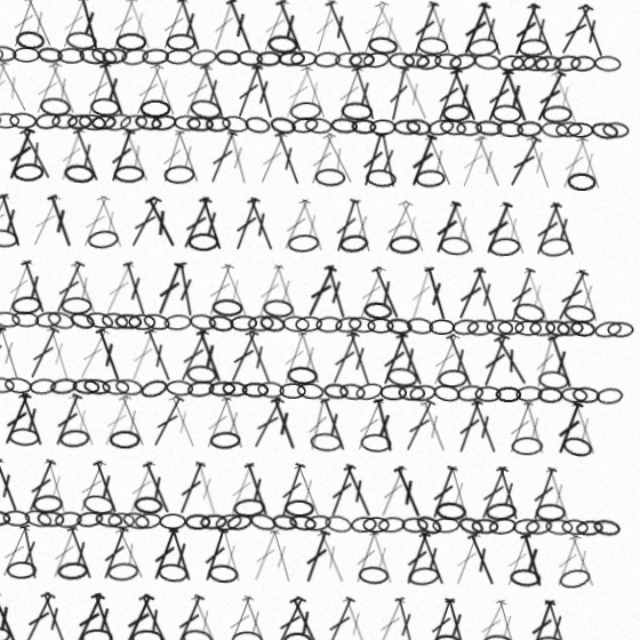chain: (546, 410, 576, 432), (502, 294, 532, 315), (128, 468, 158, 489), (546, 526, 575, 547), (216, 121, 246, 141), (546, 295, 576, 315), (458, 63, 487, 83), (18, 295, 47, 315), (524, 237, 554, 256), (392, 353, 421, 372), (414, 527, 443, 546), (419, 481, 445, 502), (176, 366, 203, 386), (129, 237, 157, 256), (217, 585, 245, 604), (304, 122, 333, 140), (304, 238, 333, 256), (480, 238, 509, 256), (260, 470, 289, 488), (128, 76, 154, 96), (94, 308, 120, 328), (113, 308, 139, 328), (244, 482, 270, 502), (456, 482, 482, 502), (349, 237, 376, 256), (107, 64, 135, 82), (283, 64, 311, 82), (371, 64, 399, 82), (85, 122, 113, 140), (107, 180, 135, 198), (371, 180, 399, 198), (41, 238, 69, 256), (437, 238, 465, 256), (63, 296, 91, 314), (217, 354, 245, 372), (437, 354, 465, 372), (525, 354, 553, 372), (107, 412, 135, 430), (437, 470, 465, 488), (481, 470, 509, 488), (107, 528, 135, 546), (151, 528, 179, 546), (195, 528, 223, 546), (239, 528, 267, 546), (442, 76, 468, 95), (141, 134, 167, 153), (424, 134, 450, 153), (128, 308, 154, 327), (365, 366, 391, 385), (77, 482, 103, 501), (274, 482, 300, 501), (63, 64, 90, 82), (371, 296, 398, 314), (437, 586, 464, 604), (129, 122, 157, 139), (349, 122, 377, 139), (283, 296, 311, 313), (305, 354, 333, 371), (19, 412, 47, 429), (327, 412, 355, 429), (503, 528, 531, 545), (118, 77, 144, 95), (155, 77, 181, 95), (215, 77, 241, 95), (155, 135, 181, 153), (567, 135, 593, 153), (178, 309, 204, 327), (573, 309, 599, 327), (412, 367, 438, 385), (433, 367, 459, 385), (163, 483, 189, 501), (340, 483, 366, 501), (415, 64, 442, 81), (503, 64, 530, 81), (437, 122, 464, 139), (481, 122, 508, 139), (525, 122, 552, 139), (19, 180, 46, 197), (63, 180, 90, 197), (195, 180, 222, 197), (415, 180, 442, 197), (393, 238, 420, 255), (239, 296, 266, 313), (63, 412, 90, 429), (239, 412, 266, 429), (371, 412, 398, 429), (85, 470, 112, 487), (173, 470, 200, 487), (371, 528, 398, 545), (41, 586, 68, 603), (481, 586, 508, 603), (413, 77, 438, 95), (264, 135, 289, 153), (286, 135, 311, 153), (235, 309, 260, 327), (254, 483, 279, 501), (503, 413, 531, 429), (129, 587, 157, 603), (173, 587, 201, 603), (244, 135, 270, 152), (305, 135, 331, 152), (346, 309, 372, 326), (322, 483, 348, 500), (151, 65, 178, 81), (195, 65, 222, 81), (173, 123, 200, 139), (151, 181, 178, 197), (327, 181, 354, 197), (217, 239, 244, 255), (107, 297, 134, 313), (151, 413, 178, 429), (305, 471, 332, 487), (525, 471, 552, 487), (63, 529, 90, 545), (261, 587, 288, 603), (525, 587, 552, 603), (367, 77, 392, 94), (464, 77, 489, 94), (496, 77, 521, 94), (534, 77, 559, 94), (168, 135, 193, 152), (182, 135, 207, 152), (405, 135, 430, 152), (435, 135, 460, 152), (142, 309, 167, 326), (219, 309, 244, 326), (280, 309, 305, 326), (358, 309, 383, 326), (409, 309, 434, 326), (58, 367, 83, 384), (98, 367, 123, 384), (127, 367, 152, 384), (155, 367, 180, 384), (218, 367, 243, 384), (454, 367, 479, 384), (123, 483, 148, 500), (309, 483, 334, 500), (484, 483, 509, 500), (516, 483, 541, 500), (575, 483, 600, 500), (548, 181, 574, 197), (306, 587, 332, 603), (81, 135, 105, 152), (84, 309, 108, 326), (530, 309, 554, 326), (552, 309, 576, 326), (29, 483, 53, 500), (294, 483, 318, 500), (324, 78, 349, 94), (485, 78, 510, 94), (517, 78, 542, 94), (28, 136, 53, 152), (119, 136, 144, 152), (317, 136, 342, 152), (485, 136, 510, 152), (524, 136, 549, 152), (47, 310, 72, 326), (197, 310, 222, 326), (449, 310, 474, 326), (462, 310, 487, 326), (80, 368, 105, 384), (314, 368, 339, 384), (545, 368, 570, 384), (576, 368, 601, 384), (104, 484, 129, 500), (174, 484, 199, 500), (231, 484, 256, 500), (387, 484, 412, 500), (560, 484, 585, 500), (82, 78, 106, 94), (109, 136, 133, 152), (130, 136, 154, 152), (391, 310, 415, 326), (337, 368, 361, 384), (351, 368, 375, 384), (363, 484, 387, 500), (194, 78, 219, 93), (466, 136, 491, 151), (555, 368, 580, 383), (505, 484, 530, 499), (29, 78, 53, 93), (41, 78, 65, 93), (174, 78, 198, 93), (238, 78, 262, 93), (257, 78, 281, 93), (293, 78, 317, 93), (304, 78, 328, 93), (402, 78, 426, 93), (430, 78, 454, 93), (570, 78, 594, 93), (59, 136, 83, 151), (203, 136, 227, 151), (230, 136, 254, 151), (340, 136, 364, 151), (537, 136, 561, 151), (578, 136, 602, 151), (64, 310, 88, 325), (255, 310, 279, 325), (270, 310, 294, 325), (301, 310, 325, 325), (312, 310, 336, 325), (330, 310, 354, 325), (479, 310, 503, 325), (489, 310, 513, 325), (541, 310, 565, 325), (44, 368, 68, 383), (118, 368, 142, 383), (144, 368, 168, 383), (200, 368, 224, 383), (237, 368, 261, 383), (280, 368, 304, 383), (506, 368, 530, 383), (59, 484, 83, 499), (89, 484, 113, 499), (140, 484, 164, 499), (435, 484, 459, 499), (534, 484, 558, 499), (548, 484, 572, 499), (139, 78, 162, 93), (355, 78, 378, 93), (390, 78, 413, 93), (549, 78, 572, 93), (96, 136, 119, 151), (503, 136, 526, 151), (517, 310, 540, 325), (29, 368, 52, 383), (249, 368, 272, 383), (61, 79, 85, 93), (100, 79, 124, 93), (343, 79, 367, 93), (507, 79, 531, 93), (44, 137, 68, 151), (214, 137, 238, 151), (374, 137, 398, 151), (395, 137, 419, 151), (547, 137, 571, 151), (29, 311, 53, 325), (154, 311, 178, 325), (166, 311, 190, 325), (375, 311, 399, 325), (504, 311, 528, 325), (585, 311, 609, 325), (266, 369, 290, 383), (299, 369, 323, 383), (387, 369, 411, 383), (403, 369, 427, 383), (470, 369, 494, 383), (42, 485, 66, 499), (151, 485, 175, 499), (196, 485, 220, 499), (374, 485, 398, 499), (408, 485, 432, 499), (469, 485, 493, 499), (274, 79, 297, 93), (358, 137, 381, 151), (450, 137, 473, 151), (429, 311, 452, 325), (488, 369, 511, 383), (525, 369, 548, 383), (218, 485, 241, 499)
double: (483, 322, 521, 371), (535, 32, 572, 81), (65, 148, 102, 197), (44, 90, 80, 139), (330, 148, 366, 197), (492, 148, 528, 197), (176, 206, 212, 255), (374, 32, 409, 82), (162, 206, 197, 256), (536, 264, 571, 314), (118, 322, 153, 372), (8, 380, 43, 430), (184, 380, 219, 430), (272, 380, 307, 430), (154, 496, 189, 546), (176, 554, 211, 604), (308, 554, 343, 604), (67, 32, 101, 82), (89, 90, 123, 140), (163, 90, 197, 140), (397, 90, 431, 140), (515, 90, 549, 140), (9, 148, 43, 198), (419, 148, 453, 198), (75, 206, 109, 256), (207, 206, 241, 256), (383, 206, 417, 256), (317, 264, 351, 314), (375, 264, 409, 314), (75, 322, 109, 372), (405, 380, 439, 430), (177, 438, 211, 488), (353, 438, 387, 488), (397, 438, 431, 488), (9, 496, 43, 546), (331, 496, 365, 546), (45, 554, 79, 604), (75, 554, 109, 604), (119, 554, 153, 604), (221, 554, 255, 604), (295, 554, 329, 604), (471, 554, 505, 604), (9, 32, 42, 82), (23, 32, 56, 82), (287, 32, 320, 82), (331, 32, 364, 82), (507, 32, 540, 82), (207, 90, 240, 140), (295, 90, 328, 140), (441, 90, 474, 140), (529, 90, 562, 140), (23, 148, 56, 198), (155, 148, 188, 198), (273, 148, 306, 198), (463, 148, 496, 198), (31, 206, 64, 256), (119, 206, 152, 256), (133, 206, 166, 256), (265, 206, 298, 256), (295, 206, 328, 256), (397, 206, 430, 256), (97, 264, 130, 314), (111, 264, 144, 314), (141, 264, 174, 314), (243, 264, 276, 314), (449, 264, 482, 314), (177, 322, 210, 372), (207, 322, 240, 372), (251, 322, 284, 372), (265, 322, 298, 372), (397, 322, 430, 372), (427, 322, 460, 372), (441, 322, 474, 372), (111, 380, 144, 430), (141, 380, 174, 430), (155, 380, 188, 430), (199, 380, 232, 430), (419, 380, 452, 430), (53, 496, 86, 546), (463, 496, 496, 546), (551, 496, 584, 546), (163, 554, 196, 604), (207, 554, 240, 604), (339, 554, 372, 604), (383, 554, 416, 604), (98, 32, 130, 82), (156, 32, 188, 82), (244, 32, 276, 82), (274, 32, 306, 82), (450, 32, 482, 82), (494, 32, 526, 82), (552, 32, 584, 82), (76, 90, 108, 140), (178, 90, 210, 140), (310, 90, 342, 140), (486, 90, 518, 140), (112, 148, 144, 198), (200, 148, 232, 198), (230, 148, 262, 198), (288, 148, 320, 198), (538, 148, 570, 198), (310, 206, 342, 256), (442, 206, 474, 256), (472, 206, 504, 256), (486, 206, 518, 256), (530, 206, 562, 256), (10, 264, 42, 314), (362, 264, 394, 314), (508, 264, 540, 314), (134, 322, 166, 372), (222, 322, 254, 372), (340, 322, 372, 372), (54, 380, 86, 430), (98, 380, 130, 430), (288, 380, 320, 430), (332, 380, 364, 430), (362, 380, 394, 430), (464, 380, 496, 430), (46, 438, 78, 488), (76, 438, 108, 488), (120, 438, 152, 488), (164, 438, 196, 488), (310, 438, 342, 488), (384, 438, 416, 488), (472, 438, 504, 488), (112, 496, 144, 546), (420, 496, 452, 546), (90, 554, 122, 604), (266, 554, 298, 604), (354, 554, 386, 604), (142, 32, 173, 82), (186, 32, 217, 82), (362, 32, 393, 82), (406, 32, 437, 82), (420, 32, 451, 82), (464, 32, 495, 82), (134, 90, 165, 140), (222, 90, 253, 140), (428, 90, 459, 140), (472, 90, 503, 140), (54, 148, 85, 198), (318, 148, 349, 198), (406, 148, 437, 198), (450, 148, 481, 198), (508, 148, 539, 198), (552, 148, 583, 198), (90, 206, 121, 256), (428, 206, 459, 256), (516, 206, 547, 256), (24, 264, 55, 314), (54, 264, 85, 314), (68, 264, 99, 314), (186, 264, 217, 314), (230, 264, 261, 314), (274, 264, 305, 314), (464, 264, 495, 314), (32, 322, 63, 372), (164, 322, 195, 372), (354, 322, 385, 372), (384, 322, 415, 372), (472, 322, 503, 372), (530, 322, 561, 372), (68, 380, 99, 430), (230, 380, 261, 430), (538, 380, 569, 430), (552, 380, 583, 430), (32, 438, 63, 488), (134, 438, 165, 488), (208, 438, 239, 488), (252, 438, 283, 488), (266, 438, 297, 488), (340, 438, 371, 488), (530, 438, 561, 488), (24, 496, 55, 546), (98, 496, 129, 546), (142, 496, 173, 546), (186, 496, 217, 546), (274, 496, 305, 546), (450, 496, 481, 546), (32, 554, 63, 604), (134, 554, 165, 604), (252, 554, 283, 604), (55, 32, 85, 82), (201, 32, 231, 82), (121, 90, 151, 140), (253, 90, 283, 140), (341, 90, 371, 140), (355, 90, 385, 140), (99, 148, 129, 198), (143, 148, 173, 198), (47, 206, 77, 256), (223, 206, 253, 256), (253, 206, 283, 256), (157, 264, 187, 314), (289, 264, 319, 314), (495, 264, 525, 314), (553, 264, 583, 314), (47, 322, 77, 372), (91, 322, 121, 372), (311, 322, 341, 372), (245, 380, 275, 430), (451, 380, 481, 430), (495, 380, 525, 430), (429, 438, 459, 488), (517, 438, 547, 488), (201, 496, 231, 546), (319, 496, 349, 546), (377, 496, 407, 546), (407, 496, 437, 546), (495, 496, 525, 546), (539, 496, 569, 546), (429, 554, 459, 604), (517, 554, 547, 604), (531, 554, 561, 604), (231, 32, 260, 82), (33, 90, 62, 140), (267, 90, 296, 140), (341, 206, 370, 256), (333, 264, 362, 314), (421, 264, 450, 314), (297, 322, 326, 372), (509, 380, 538, 430), (91, 438, 120, 488), (223, 438, 252, 488), (297, 438, 326, 488), (487, 438, 516, 488), (231, 496, 260, 546), (245, 496, 274, 546), (289, 496, 318, 546), (363, 496, 392, 546), (509, 496, 538, 546), (114, 32, 142, 82), (320, 32, 348, 82), (188, 148, 216, 198), (246, 148, 274, 198), (364, 148, 392, 198), (408, 264, 436, 314), (26, 380, 54, 430), (444, 438, 472, 488), (444, 554, 472, 604), (488, 554, 516, 604), (356, 206, 383, 256), (518, 322, 545, 372), (378, 380, 405, 430), (400, 554, 427, 604), (387, 90, 412, 140), (379, 148, 404, 198), (321, 380, 346, 430), (71, 496, 96, 546), (204, 264, 228, 314)
